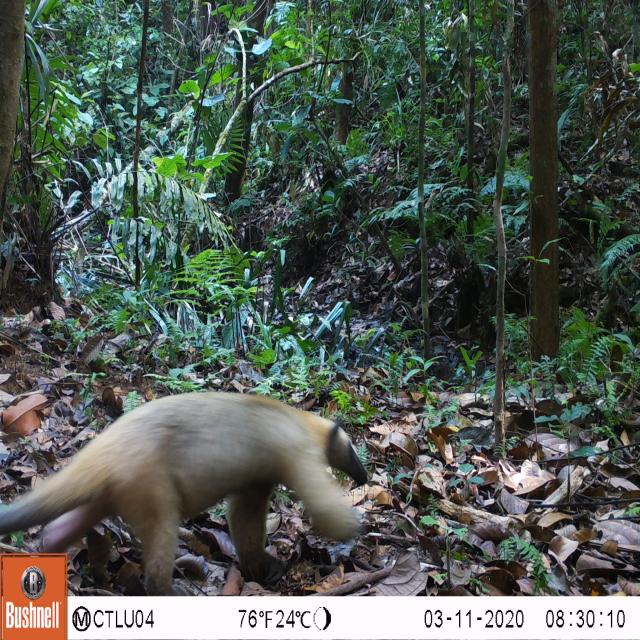Southern Tamandua: (0, 388, 394, 602)
